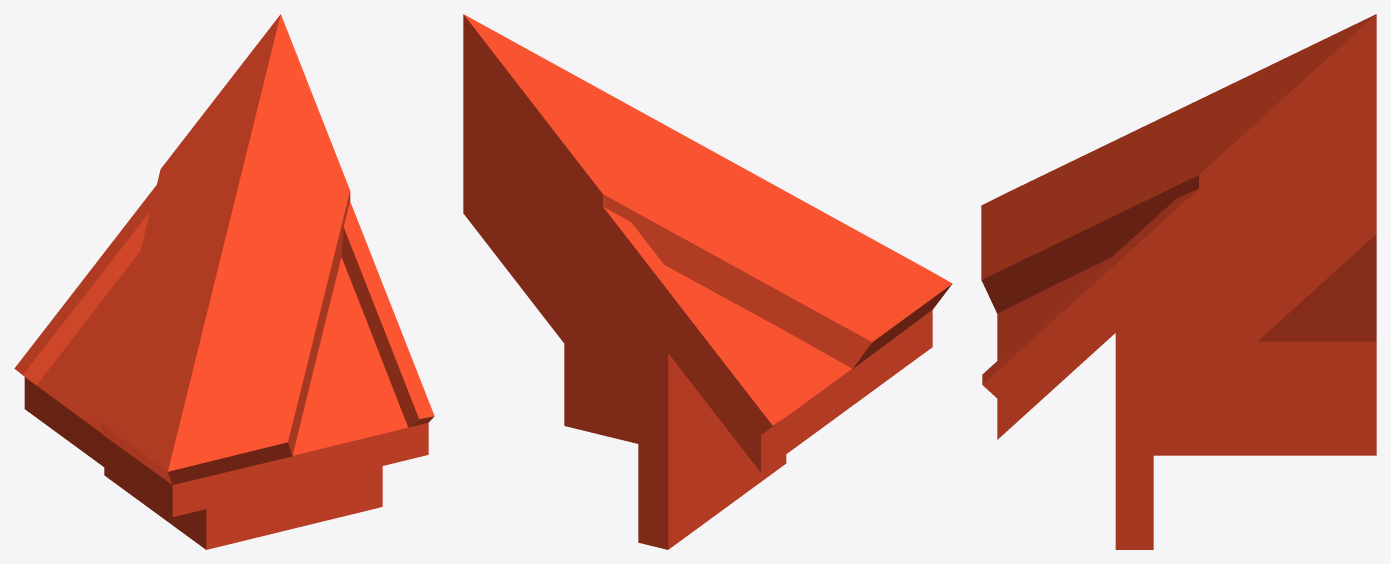
Rendered from roof-metal-regular-edge-corner-a.fbx.
The picture shows the model from 3 angles, left to right: view 1: azimuth 30°, elevation 25°; view 2: azimuth 150°, elevation 25°; view 3: azimuth 270°, elevation 25°; orthographic projection. The views are drawn at different scales.
Parts seen in each view (by area): view 1: roof-metal-regular-edge-corner-a; view 2: roof-metal-regular-edge-corner-a; view 3: roof-metal-regular-edge-corner-a.
Boxes of the visible parts, x1=… form: roof-metal-regular-edge-corner-a: x1=14, y1=14, x2=434, y2=549; roof-metal-regular-edge-corner-a: x1=463, y1=14, x2=952, y2=549; roof-metal-regular-edge-corner-a: x1=981, y1=14, x2=1376, y2=549.
Bounding box in the file's own units: 0.5213 × 0.7801 × 0.5211.
